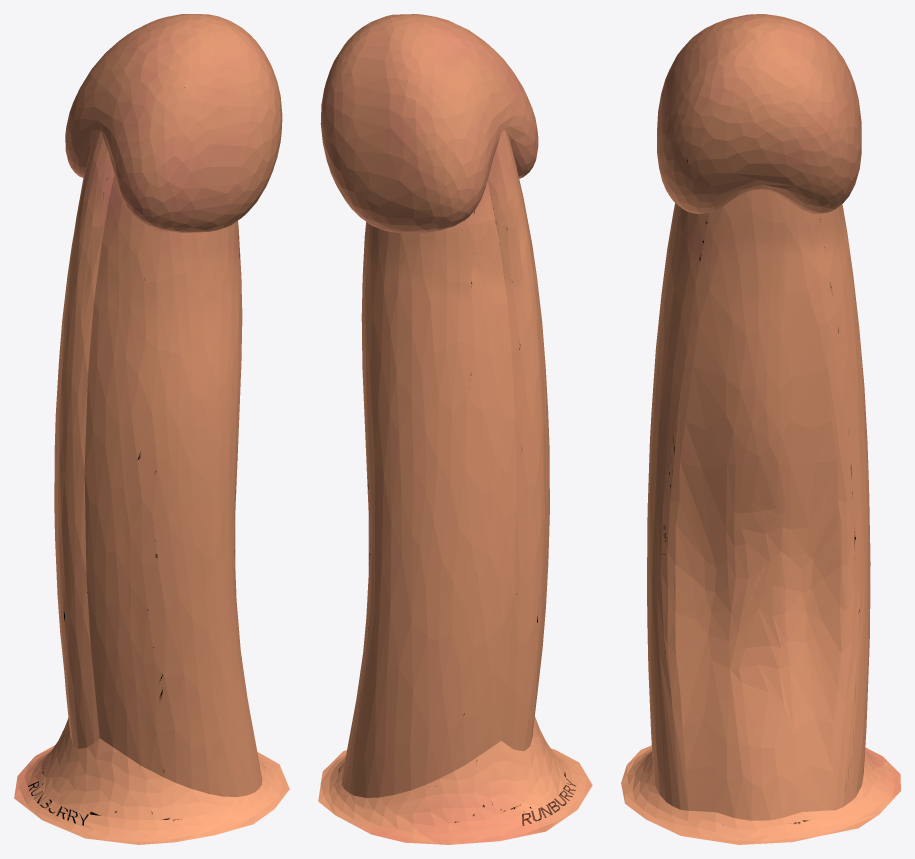
File: penis.obj
3 renders of one model, left to right at view 1: azimuth 30°, elevation 25°; view 2: azimuth 150°, elevation 25°; view 3: azimuth 270°, elevation 25°, orthographic. The views are drawn at different scales.
Parts seen in each view (by area): view 1: 150X35_Fun; view 2: 150X35_Fun; view 3: 150X35_Fun.
Boxes of the visible parts, x1,y1,x2,y2 form: 150X35_Fun: (14, 14, 289, 844); 150X35_Fun: (318, 14, 592, 844); 150X35_Fun: (621, 14, 900, 844).
Size of the model in its own units: 2.46 by 7.54 by 2.44.
1 material, 1 textured.
